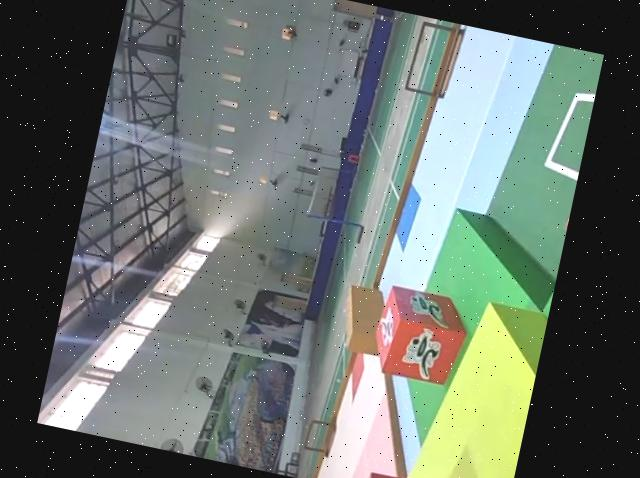R1: (365, 280, 477, 390)
R2 Fake: (347, 462, 509, 478)
